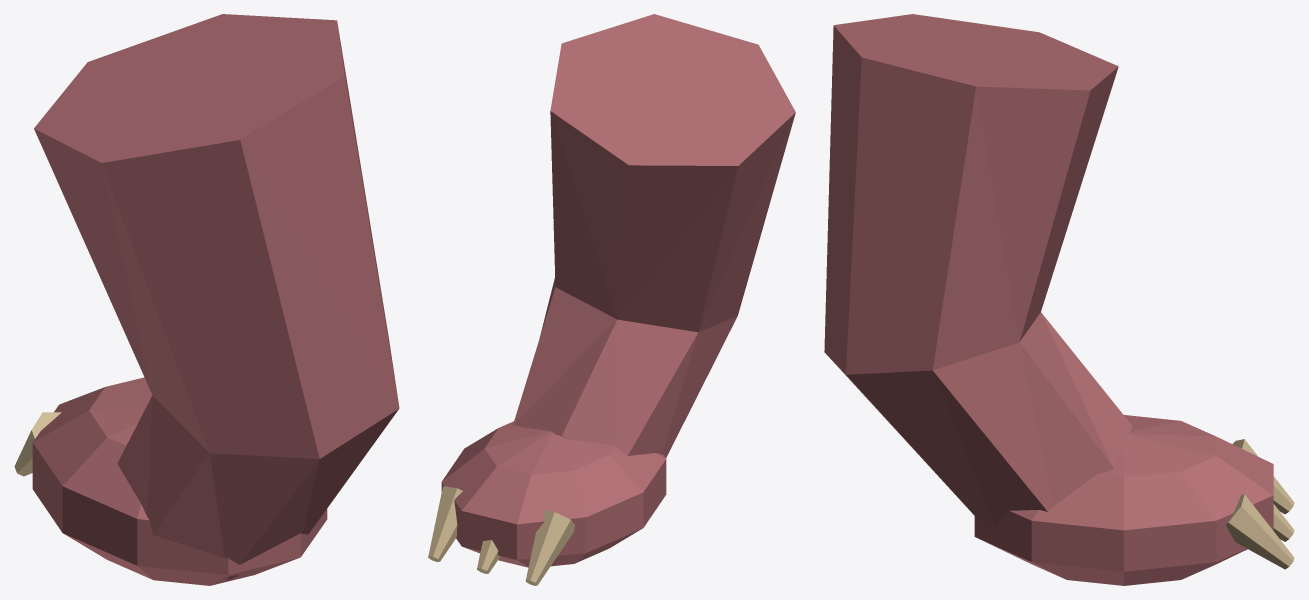
File: chimera_a_leg_1_0.obj
The picture shows the model from 3 angles, left to right: view 1: azimuth 30°, elevation 25°; view 2: azimuth 150°, elevation 25°; view 3: azimuth 270°, elevation 25°; orthographic projection. The views are drawn at different scales.
Visible parts, largest first — view 1: chimera_a_leg_1_0; view 2: chimera_a_leg_1_0; view 3: chimera_a_leg_1_0.
Boxes of the visible parts, x1,y1,x2,y2 form: chimera_a_leg_1_0: (14, 14, 399, 585); chimera_a_leg_1_0: (428, 14, 795, 585); chimera_a_leg_1_0: (824, 14, 1294, 585).
Bounding box in the file's own units: 0.37 × 0.6561 × 0.5404.
